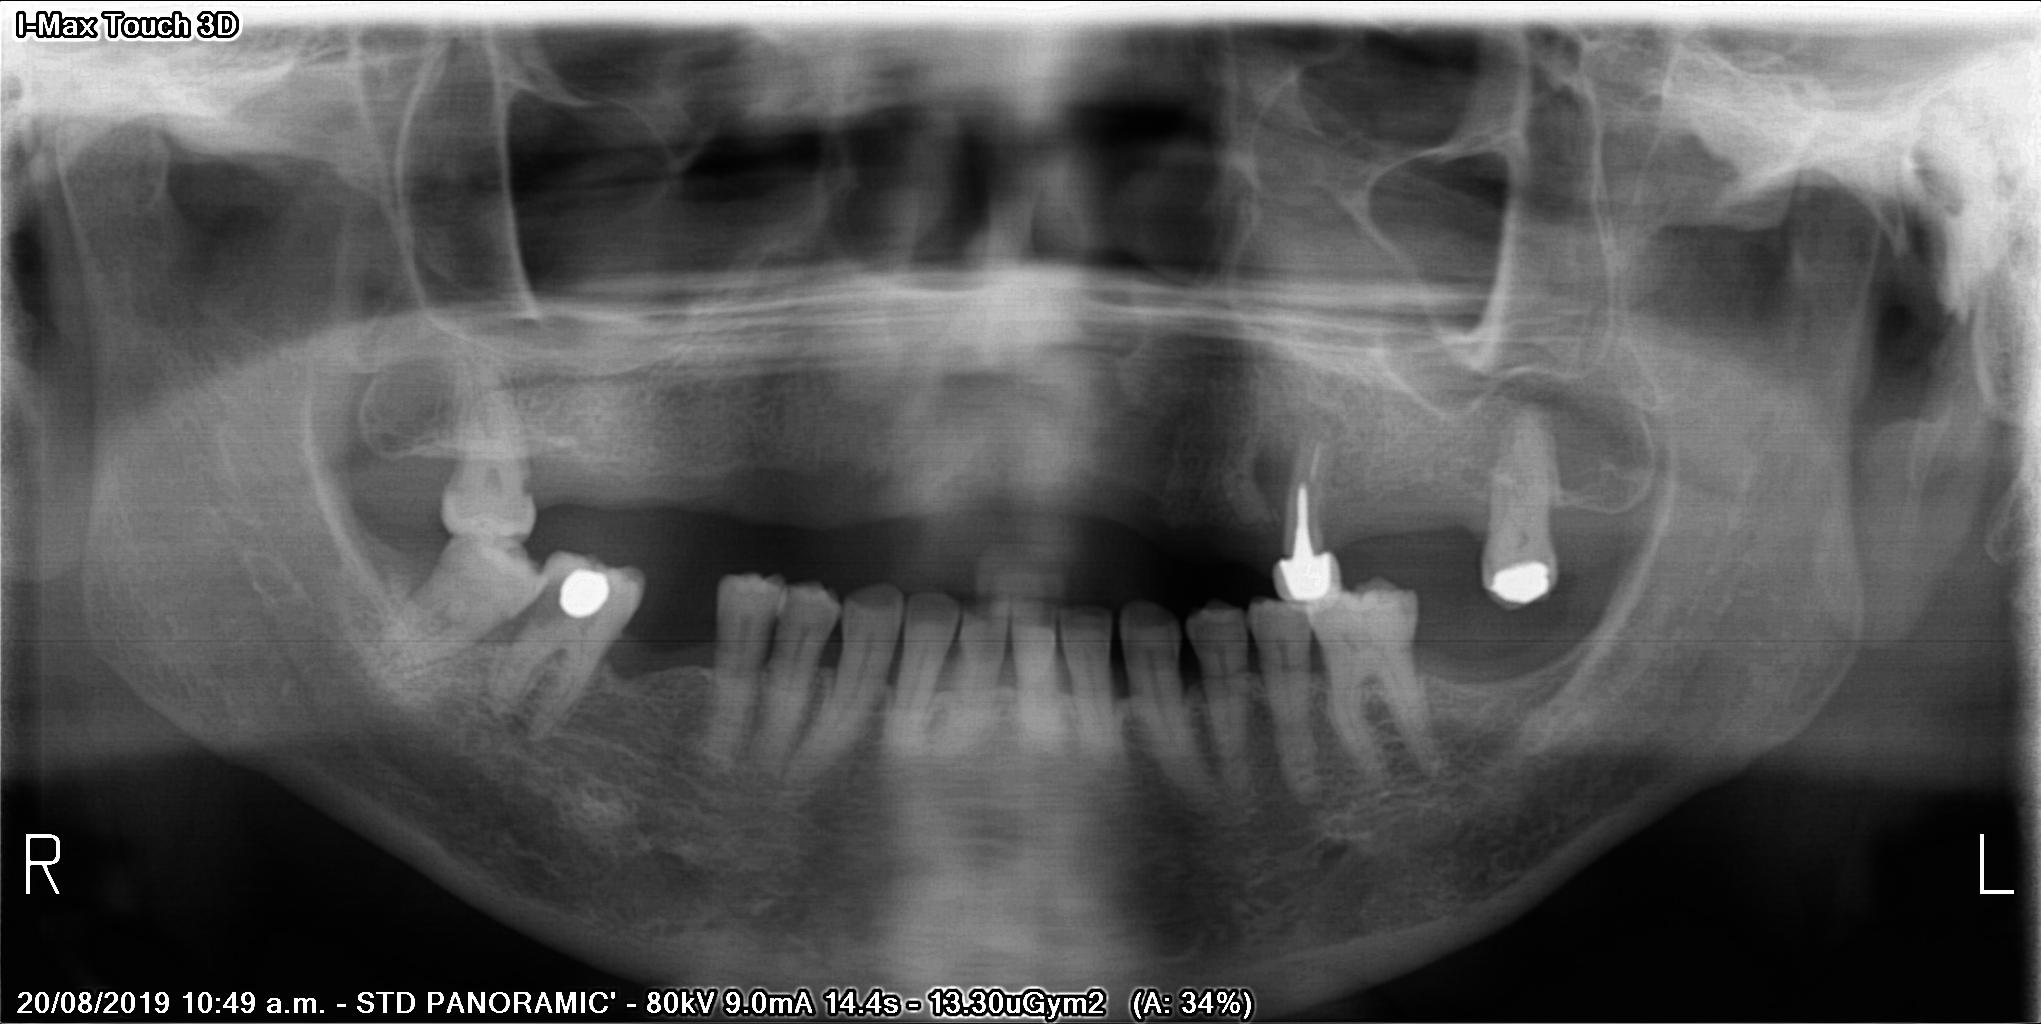Çürük: (1273, 541, 1350, 603), (1485, 556, 1564, 613), (559, 569, 619, 620)
Çürük Bölgesi: (524, 575, 567, 640)
